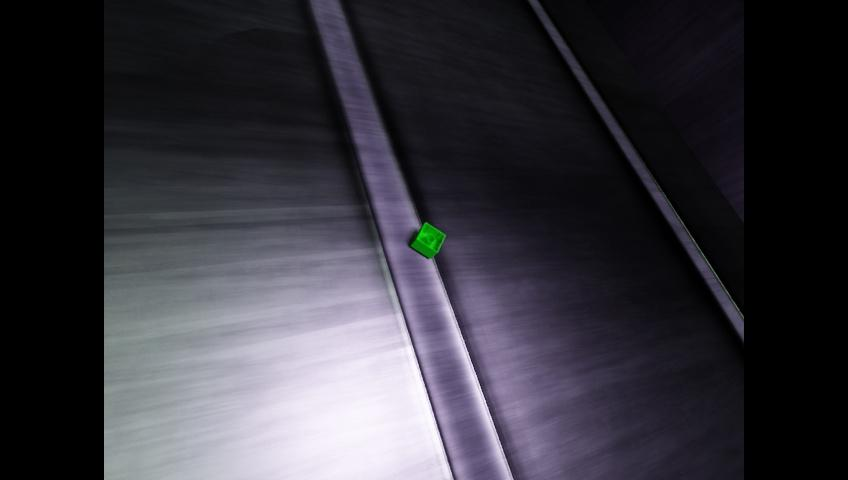2x2_green: (412, 222, 445, 258)
